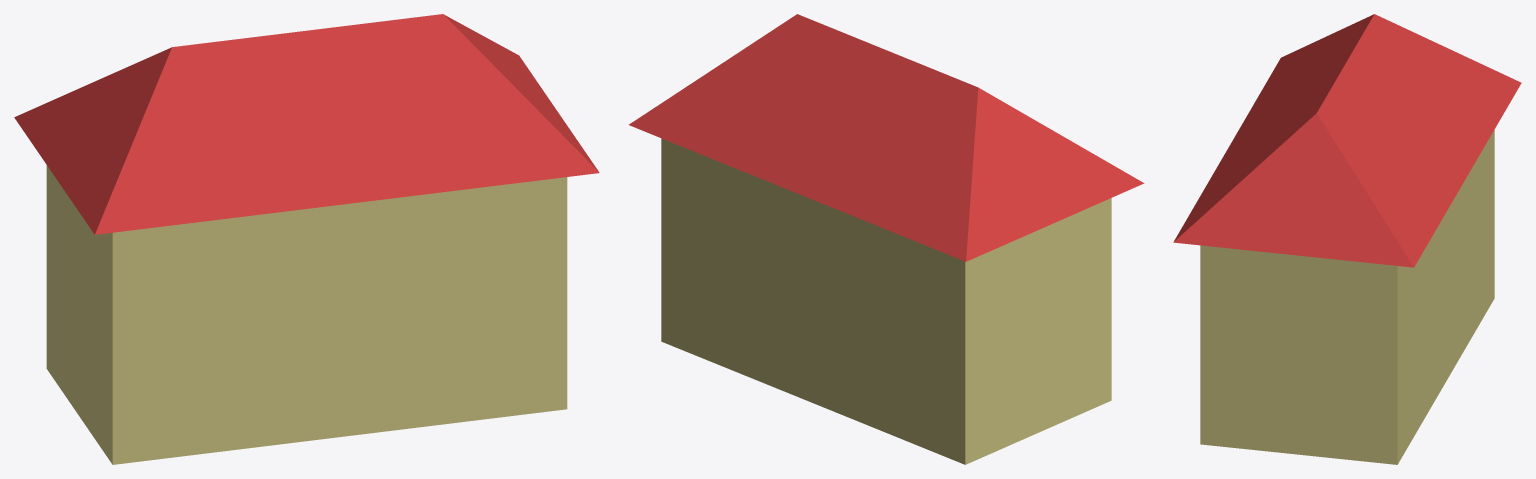
3 views of the same model, side by side, from view 1: azimuth 30°, elevation 25°; view 2: azimuth 150°, elevation 25°; view 3: azimuth 270°, elevation 25° (orthographic). The views are drawn at different scales.
Parts seen in each view (by area): view 1: group_5, group_3, group_4; view 2: group_5, group_3; view 3: group_5, group_3, group_4.
Boxes of the visible parts, box(x1,y1,x2,y2) form: group_5: box(46, 165, 567, 464); group_3: box(14, 14, 598, 234); group_4: box(95, 47, 599, 234); group_5: box(661, 138, 1111, 464); group_3: box(629, 14, 1143, 261); group_5: box(1200, 130, 1494, 464); group_3: box(1173, 14, 1521, 267); group_4: box(1173, 60, 1413, 267).
Size of the model in its own units: 22.1 by 15.51 by 15.11.
